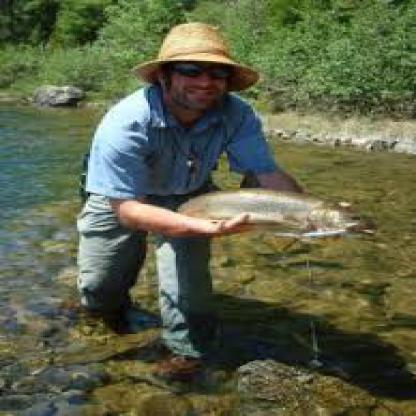fish: (127, 173, 382, 244)
